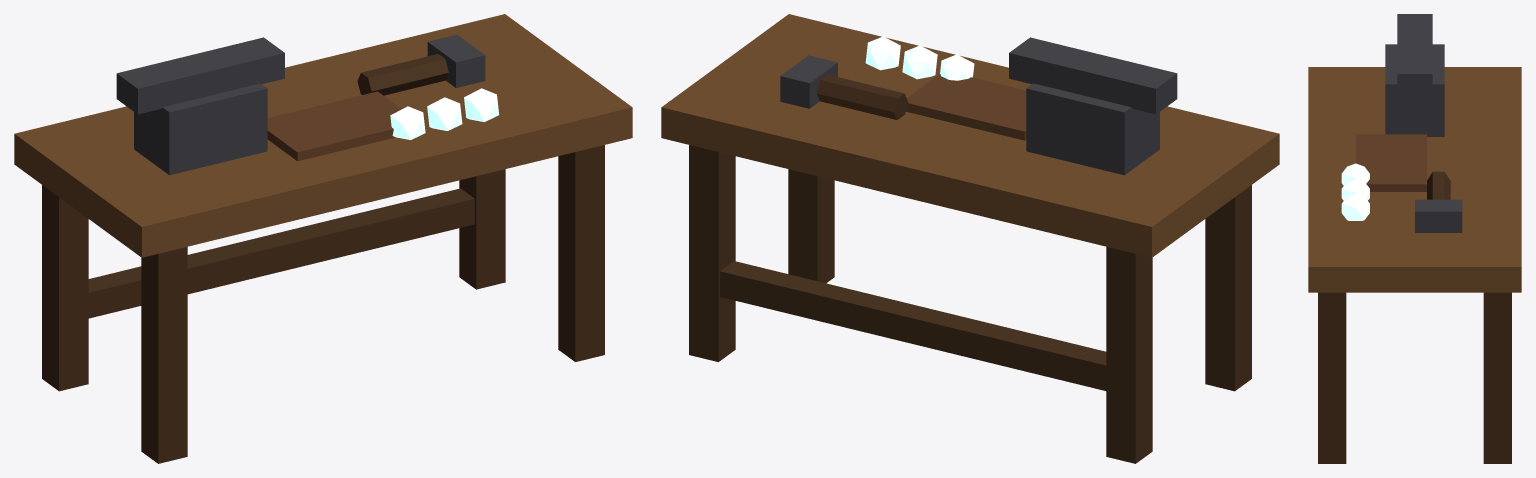
Rendered from craft_bench.glb.
3 renders of one model, left to right at view 1: azimuth 30°, elevation 25°; view 2: azimuth 150°, elevation 25°; view 3: azimuth 270°, elevation 25°, orthographic. The views are drawn at different scales.
Visible parts, largest first — view 1: craft_bench; view 2: craft_bench; view 3: craft_bench.
Part boxes in pixels (left/top/right/bottom): craft_bench: left=14, top=14, right=632, bottom=463; craft_bench: left=661, top=14, right=1279, bottom=463; craft_bench: left=1308, top=14, right=1521, bottom=463.
Size of the model in its own units: 2 by 1.3 by 0.9.
Materials: 2 (1 with a texture image).
